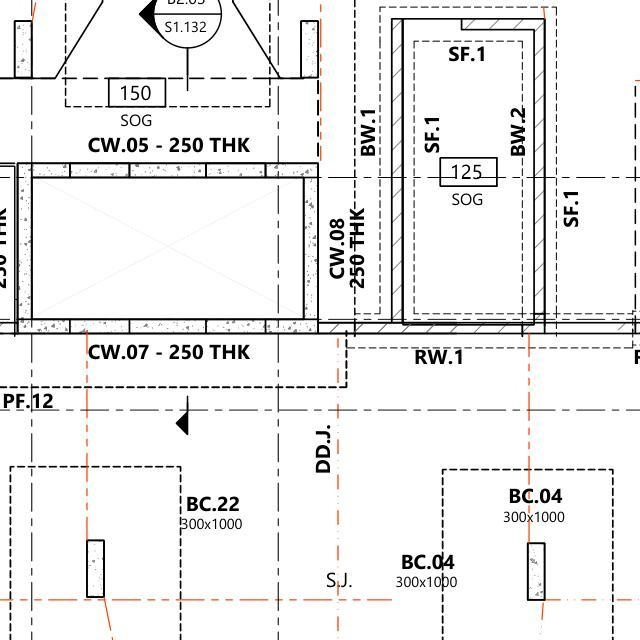PF-12: (0, 382, 70, 413)
SF-1: (553, 184, 598, 235), (408, 103, 443, 154), (441, 41, 494, 70)
